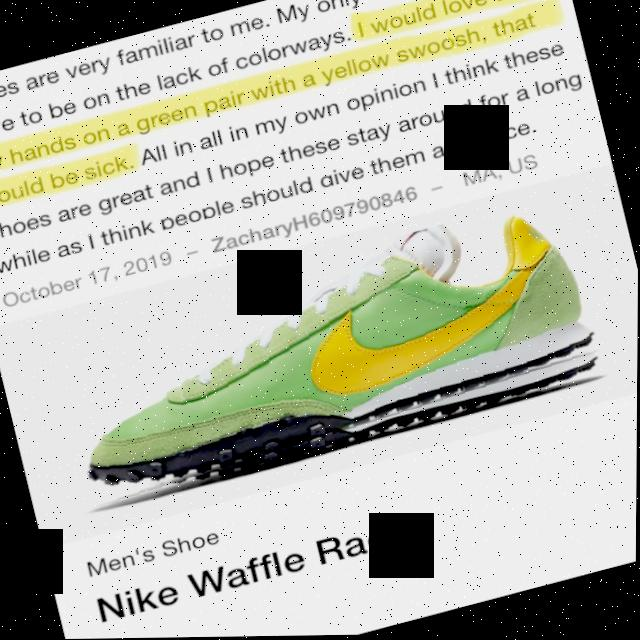shoe: (16, 180, 639, 518)
